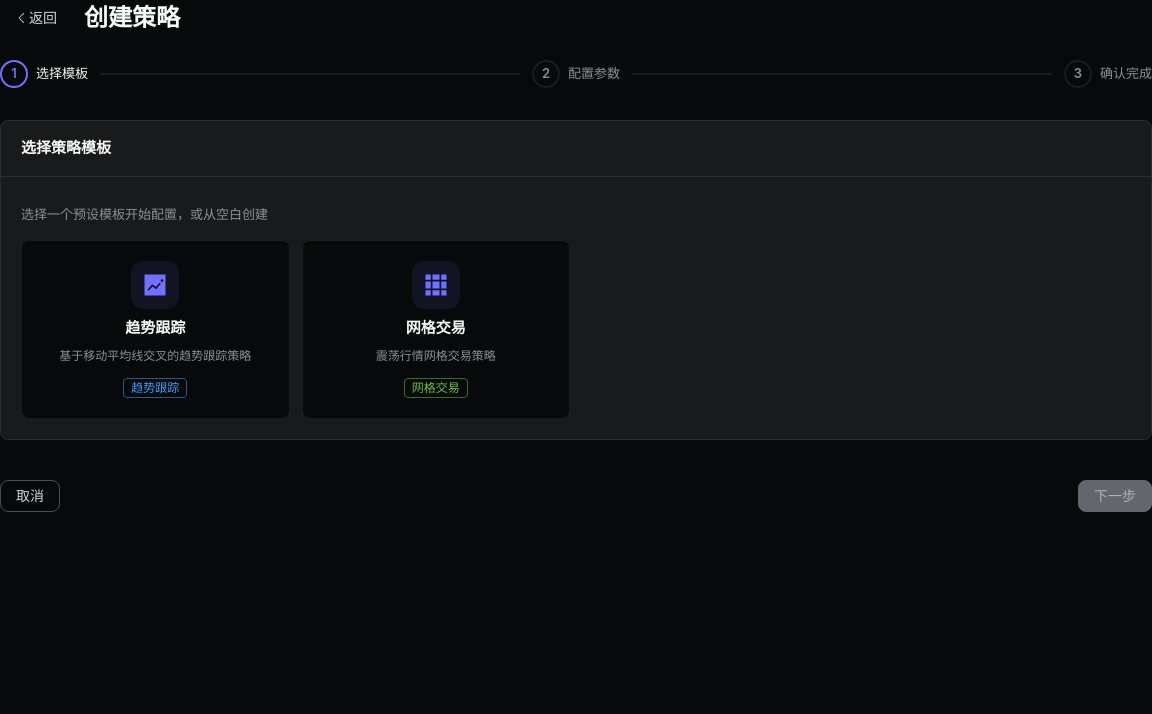
Test: StrategyCreateView › renders symbol and timeframe selectors in step 2
This screenshot has width=1152, height=714.
Click the element with class "template-card" showing "趋势跟踪 基于移动平均线交叉的趋势跟踪策略 趋势跟踪": {"x": 155, "y": 330} [21,240,290,420]
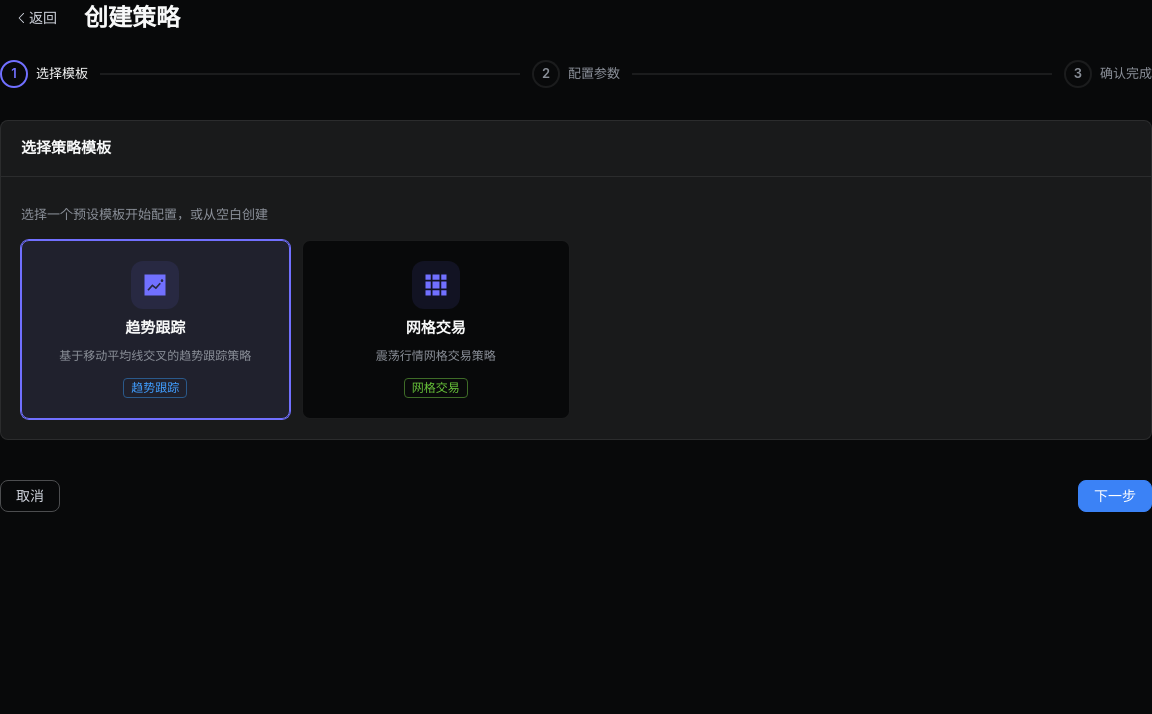
Click the button "下一步": {"x": 1115, "y": 496} [1078,480,1151,512]
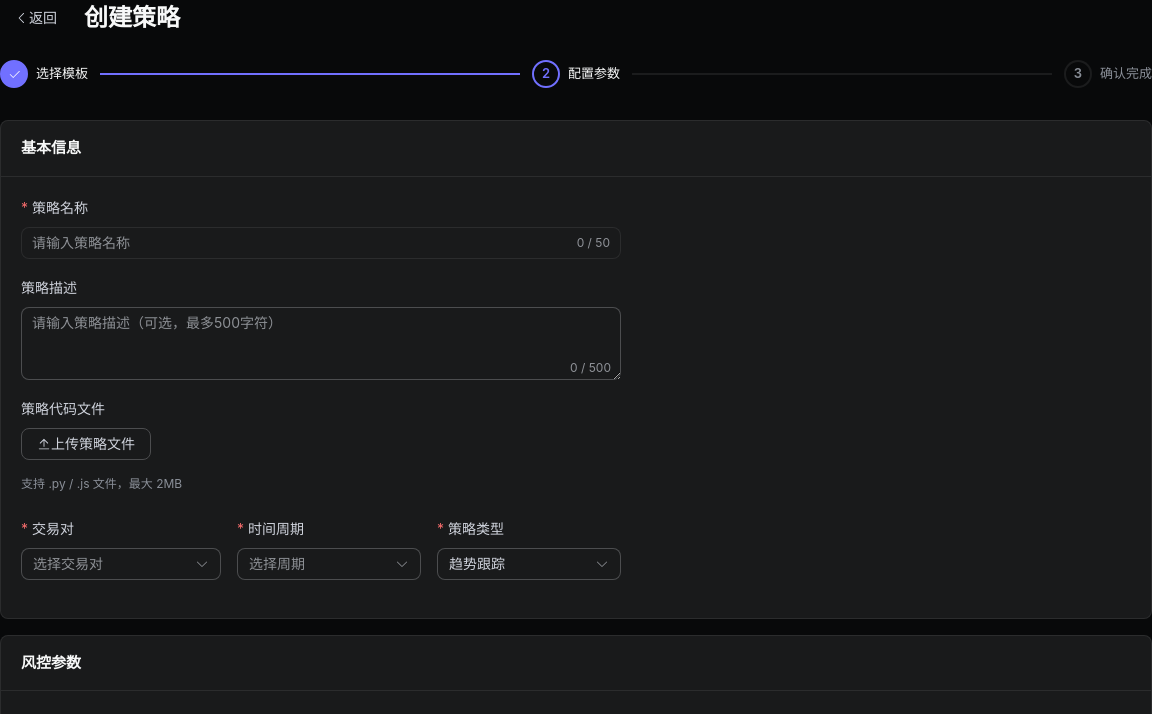
Check: the text "交易对" is shown, box [21,518,86,540]
Check: the text "时间周期" is shown, box [237,518,316,540]
